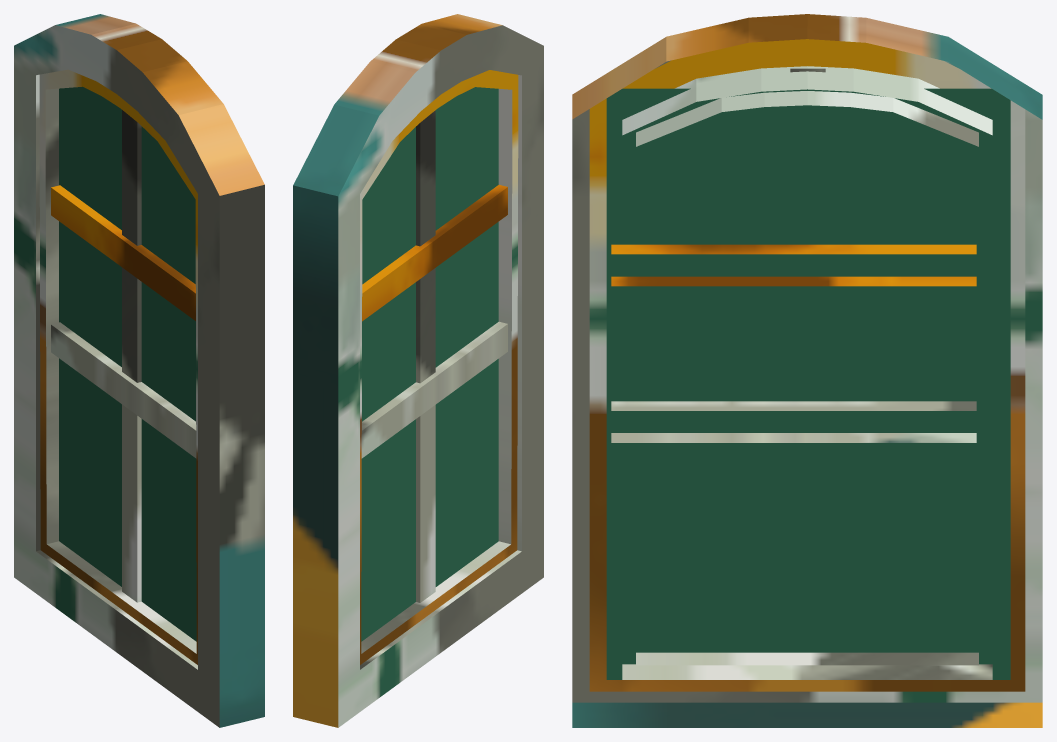
File: WindmillHouseWindowsDetailed_low.fbx
The picture shows the model from 3 angles, left to right: view 1: azimuth 30°, elevation 25°; view 2: azimuth 150°, elevation 25°; view 3: azimuth 270°, elevation 25°; orthographic projection. The views are drawn at different scales.
Visible parts, largest first — view 1: WindmillHouseWindowsDetailed_low; view 2: WindmillHouseWindowsDetailed_low; view 3: WindmillHouseWindowsDetailed_low.
Boxes of the visible parts, x1,y1,x2,y2 form: WindmillHouseWindowsDetailed_low: (14,14,264,727); WindmillHouseWindowsDetailed_low: (293,14,543,727); WindmillHouseWindowsDetailed_low: (572,14,1042,727).
Bounding box in the file's own units: 0.2885 × 3.68 × 2.27.
